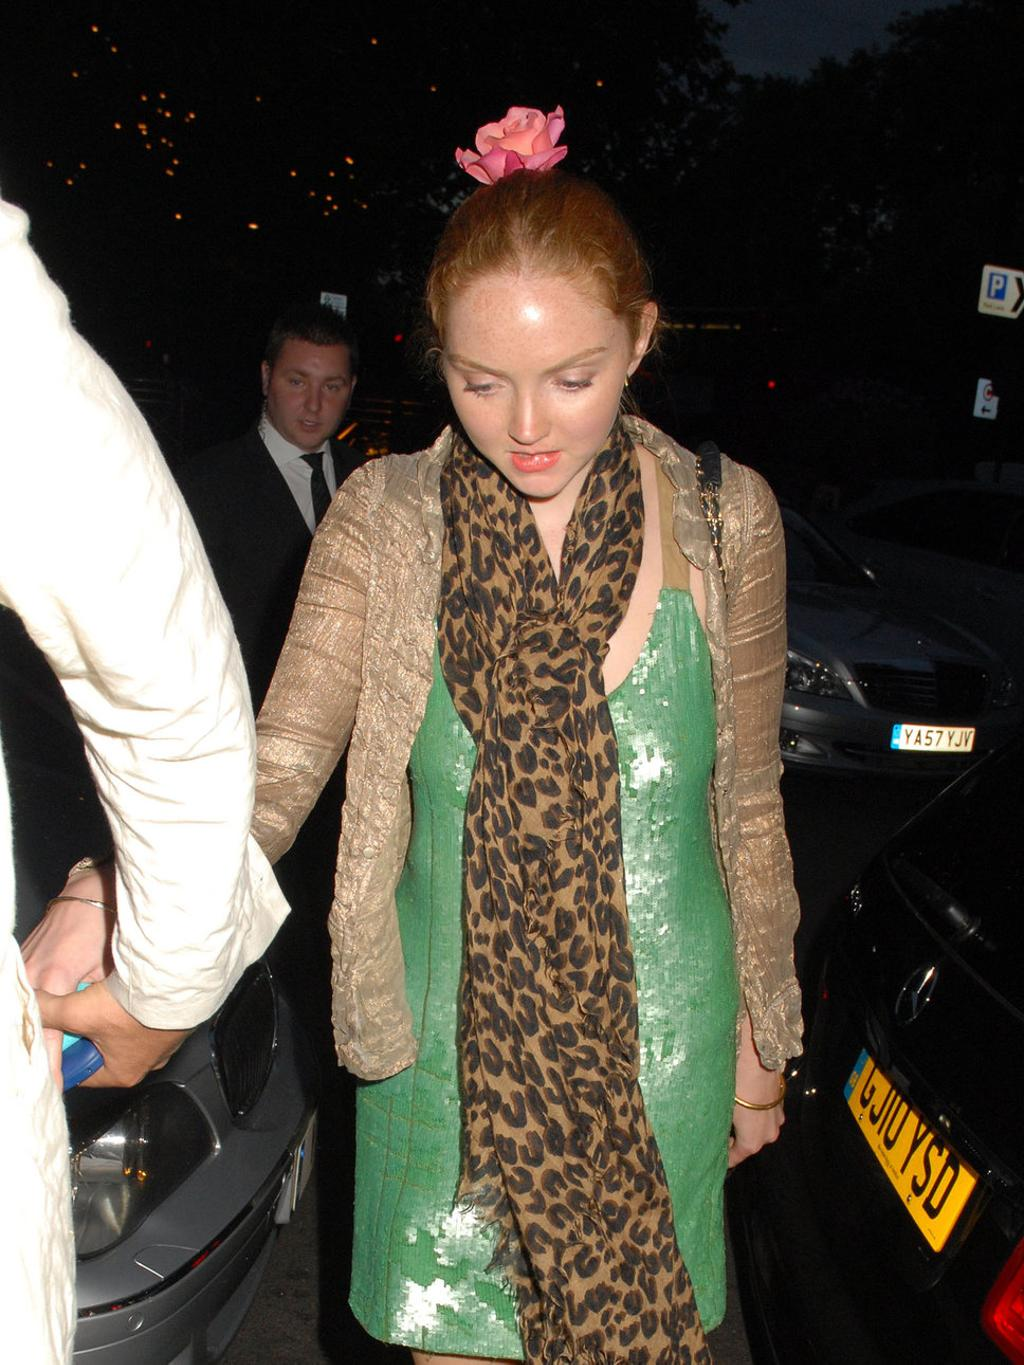face: (445, 275, 632, 494), (267, 336, 350, 445)
